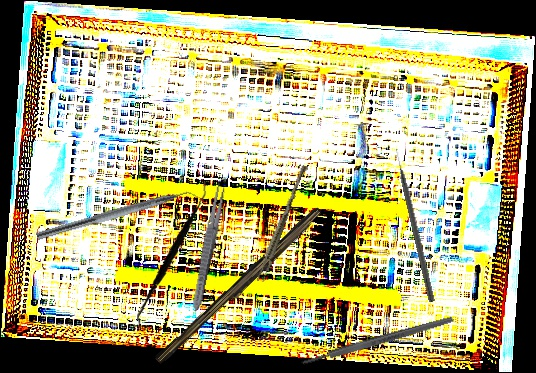Chopper: (35, 182, 205, 252)
Dressing Forceps: (189, 178, 228, 314)
Hook Surgical: (394, 149, 437, 303)
Scalpel Handle: (154, 203, 326, 370), (300, 314, 455, 368)
Spatula Surgical: (126, 181, 219, 330)
Tissue Forceps: (255, 163, 309, 284)
